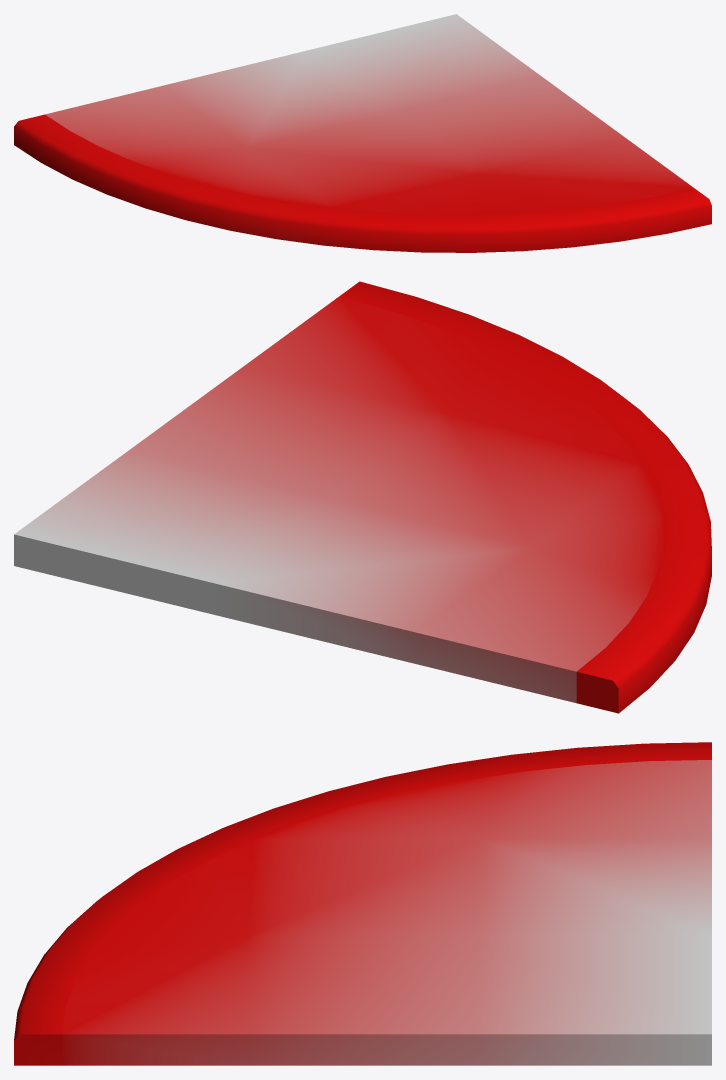
The model's file is Sidewalk_Corner_Round_3m.gltf.
The picture shows the model from 3 angles, top to bottom: view 1: azimuth 30°, elevation 25°; view 2: azimuth 150°, elevation 25°; view 3: azimuth 270°, elevation 25°; orthographic projection. The views are drawn at different scales.
Parts seen in each view (by area): view 1: Sidewalk_Corner_Round_3m; view 2: Sidewalk_Corner_Round_3m; view 3: Sidewalk_Corner_Round_3m.
Boxes of the visible parts, bbox=[...] form: Sidewalk_Corner_Round_3m: bbox=[14, 14, 711, 252]; Sidewalk_Corner_Round_3m: bbox=[14, 281, 711, 713]; Sidewalk_Corner_Round_3m: bbox=[14, 742, 711, 1065].
Bounding box in the file's own units: 3.01 × 0.15 × 3.01.
